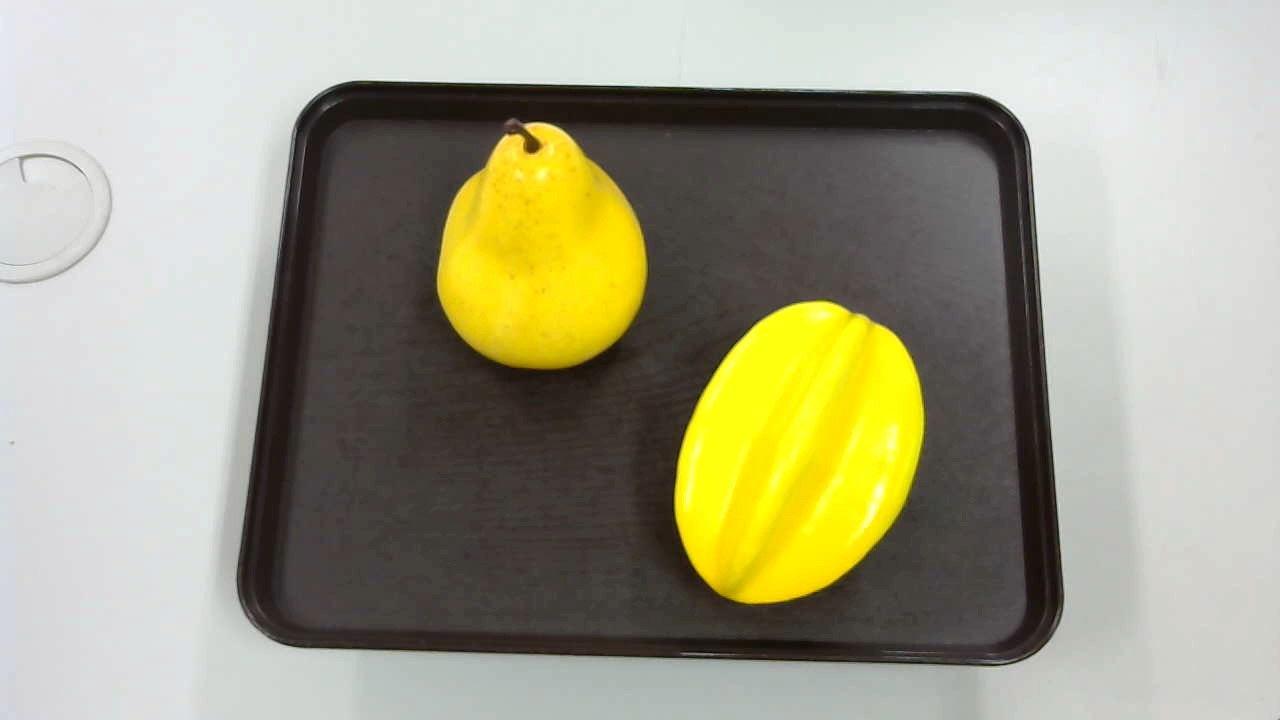star fruit: (670, 300, 928, 600)
yellow pear: (430, 121, 645, 381)
